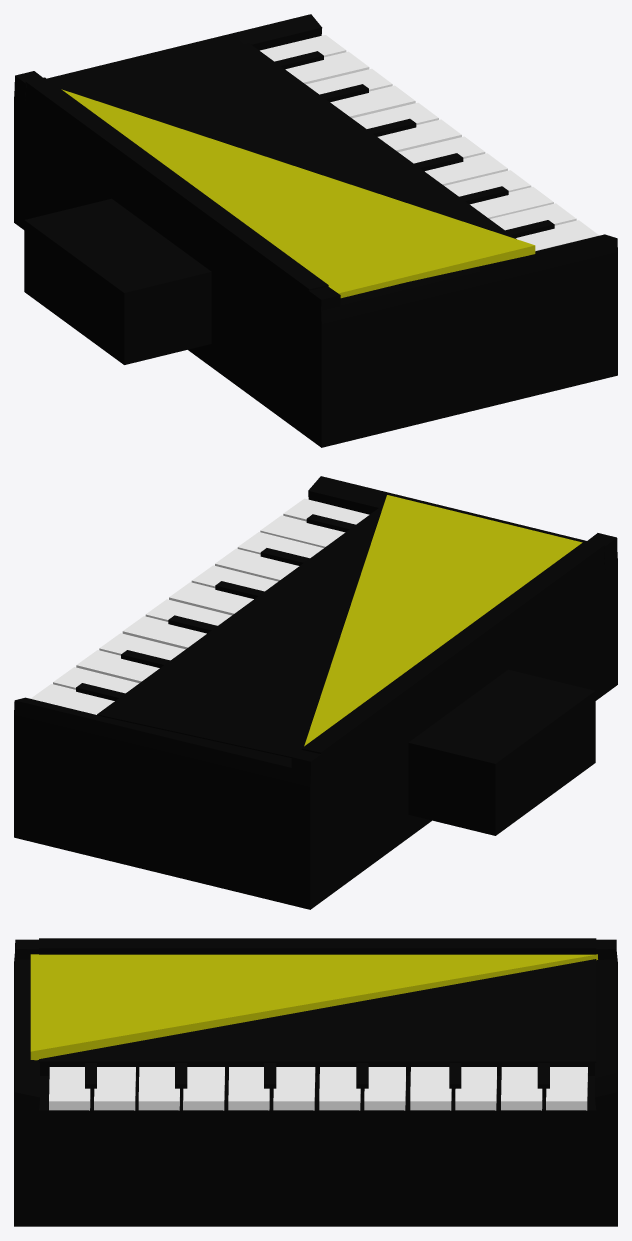
Rendered from Yellowshooter.fbx.
3 renders of one model, top to bottom at view 1: azimuth 30°, elevation 25°; view 2: azimuth 150°, elevation 25°; view 3: azimuth 270°, elevation 25°, orthographic.
Parts seen in each view (by area): view 1: Box001, Box021, Box002, Box011, Box009, Box013, Box007, Box005, Box003, Box008, Box004, Box014 (+3 smaller); view 2: Box001, Box021, Box002, Box008, Box010, Box004, Box006, Box012, Box014, Box011, Box009, Box013 (+3 smaller); view 3: Box001, Box021, Box011, Box008, Box004, Box006, Box014, Box010, Box009, Box013, Box012, Box003 (+2 smaller).
Boxes of the visible parts, x1=… form: Box001: x1=14, y1=14, x2=617, y2=447; Box021: x1=61, y1=89, x2=535, y2=298; Box002: x1=24, y1=198, x2=211, y2=364; Box011: x1=330, y1=85, x2=415, y2=118; Box009: x1=378, y1=119, x2=461, y2=152; Box013: x1=285, y1=51, x2=369, y2=84; Box007: x1=425, y1=153, x2=507, y2=185; Box005: x1=470, y1=187, x2=553, y2=218; Box003: x1=516, y1=220, x2=598, y2=251; Box008: x1=398, y1=136, x2=485, y2=163; Box004: x1=490, y1=203, x2=576, y2=230; Box014: x1=260, y1=35, x2=346, y2=61; Box001: x1=14, y1=476, x2=617, y2=909; Box021: x1=304, y1=495, x2=582, y2=746; Box002: x1=408, y1=669, x2=595, y2=835; Box008: x1=169, y1=582, x2=253, y2=615; Box010: x1=122, y1=616, x2=206, y2=649; Box004: x1=260, y1=515, x2=345, y2=547; Box006: x1=215, y1=548, x2=299, y2=581; Box012: x1=76, y1=650, x2=159, y2=683; Box014: x1=30, y1=684, x2=114, y2=714; Box011: x1=99, y1=633, x2=185, y2=660; Box009: x1=145, y1=599, x2=231, y2=625; Box013: x1=53, y1=667, x2=138, y2=693; Box001: x1=14, y1=938, x2=617, y2=1226; Box021: x1=30, y1=954, x2=597, y2=1060; Box011: x1=410, y1=1067, x2=451, y2=1110; Box008: x1=273, y1=1067, x2=315, y2=1110; Box004: x1=94, y1=1067, x2=135, y2=1110; Box006: x1=183, y1=1067, x2=224, y2=1110; Box014: x1=546, y1=1067, x2=587, y2=1110; Box010: x1=364, y1=1067, x2=405, y2=1110; Box009: x1=319, y1=1067, x2=360, y2=1110; Box013: x1=501, y1=1067, x2=542, y2=1110; Box012: x1=455, y1=1067, x2=496, y2=1110; Box003: x1=49, y1=1067, x2=90, y2=1110.
Size of the model in its own units: 35.21 by 13.06 by 48.86.
